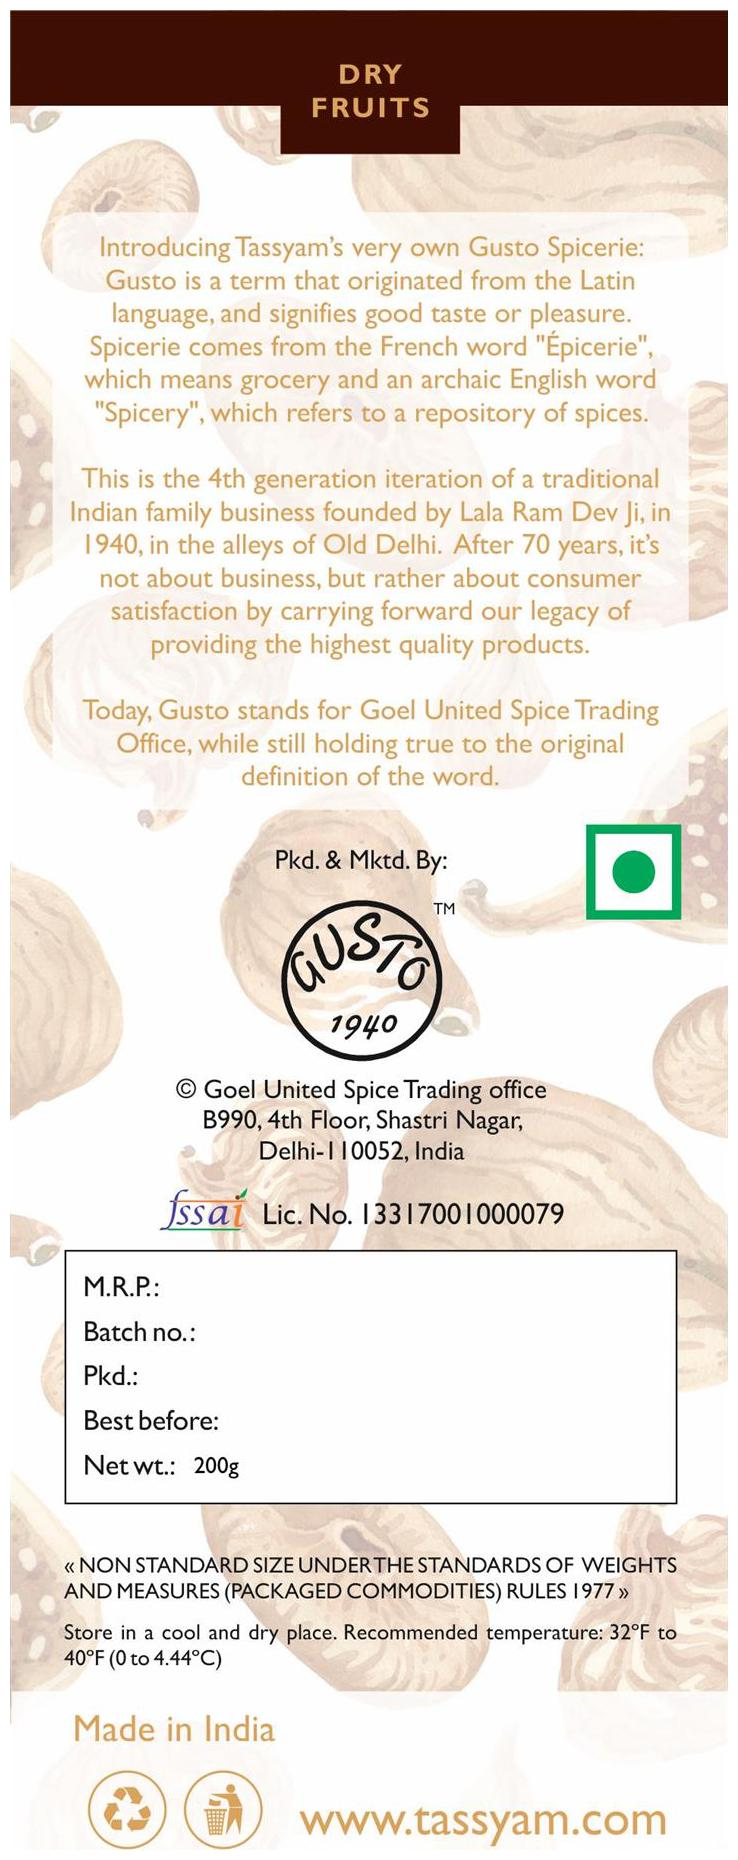fssai: (158, 1186, 252, 1232)
